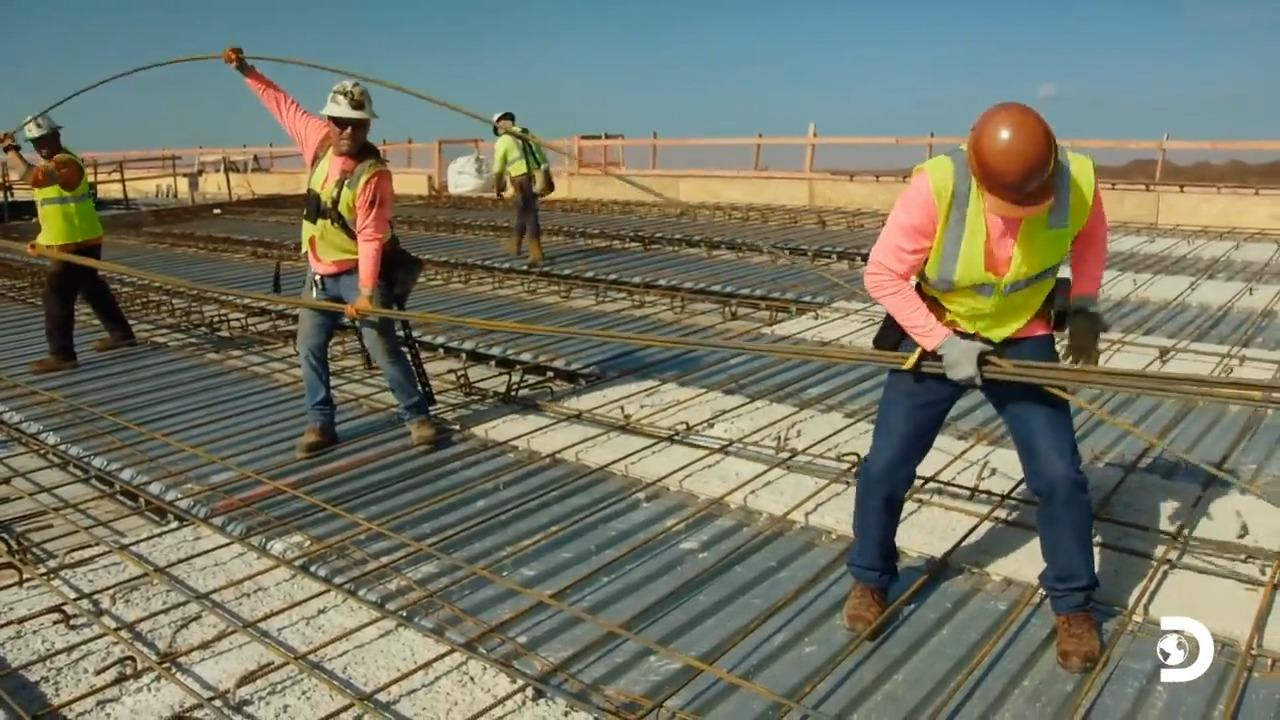Gloves: (943, 322, 990, 393), (1062, 302, 1103, 358), (344, 295, 377, 321), (219, 46, 245, 71), (0, 131, 20, 153)
Helmet: (967, 101, 1058, 207), (319, 79, 378, 119), (22, 113, 63, 141), (491, 111, 515, 135)
Person: (841, 101, 1108, 674), (196, 33, 418, 446), (0, 113, 137, 374), (491, 111, 553, 265)
Safety Boot: (1047, 612, 1105, 676), (840, 572, 891, 632), (294, 420, 333, 456), (408, 419, 444, 452), (26, 352, 82, 370), (94, 328, 134, 346), (531, 244, 546, 267), (507, 233, 518, 253), (546, 484, 573, 487)
Safety Vest: (926, 185, 1060, 323), (306, 160, 379, 265), (32, 175, 100, 247), (501, 135, 542, 185)
